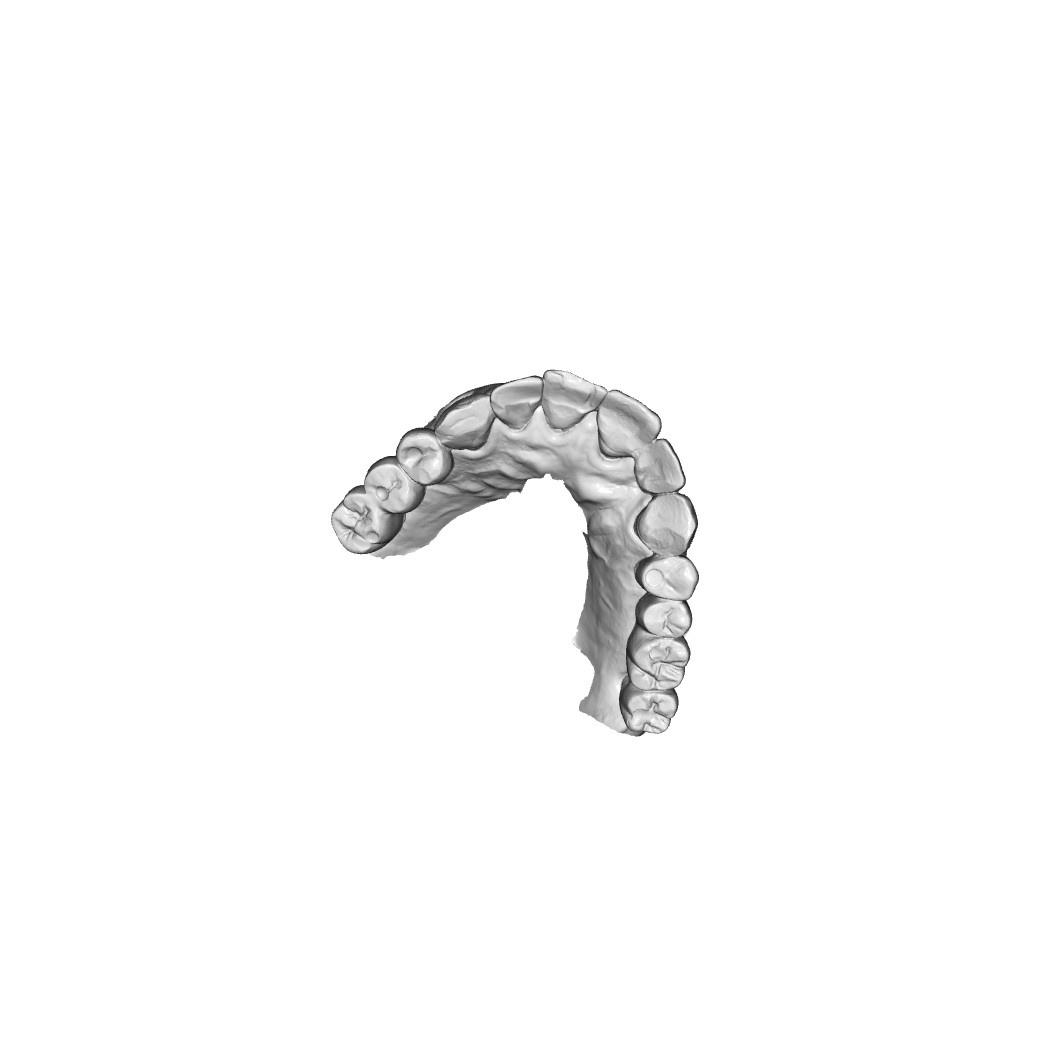canine: (633, 492, 694, 555), (438, 397, 498, 450)
incisor: (597, 388, 664, 455), (542, 367, 605, 432), (639, 440, 691, 494), (493, 378, 543, 425)
molar: (334, 488, 393, 548), (629, 638, 688, 690), (622, 688, 678, 738)
premolar: (633, 552, 701, 600), (367, 459, 422, 514), (400, 430, 450, 485), (636, 598, 692, 639)
